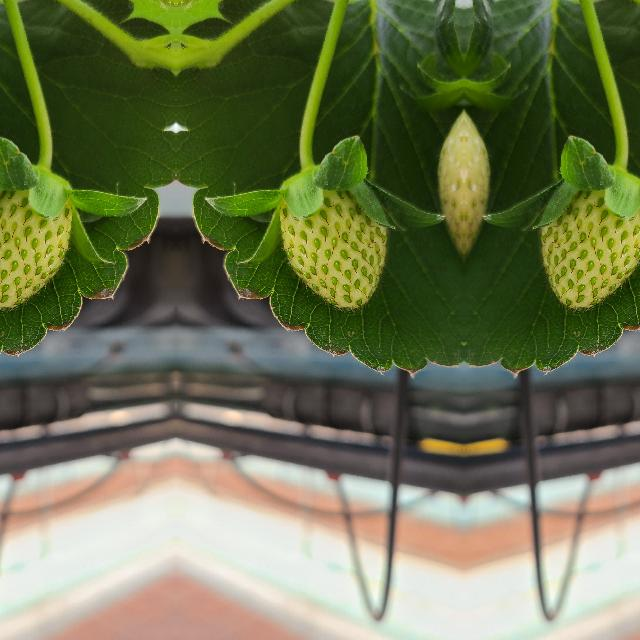Health_25: (280, 188, 386, 312), (540, 188, 640, 311), (0, 188, 70, 311)
